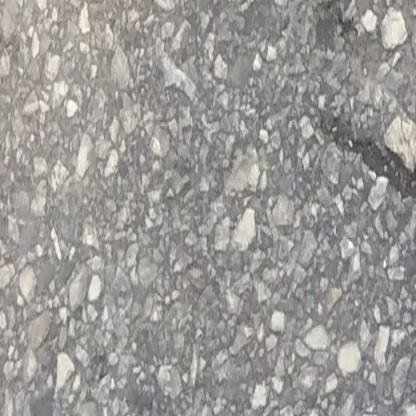Cracks: (316, 116, 416, 205)
